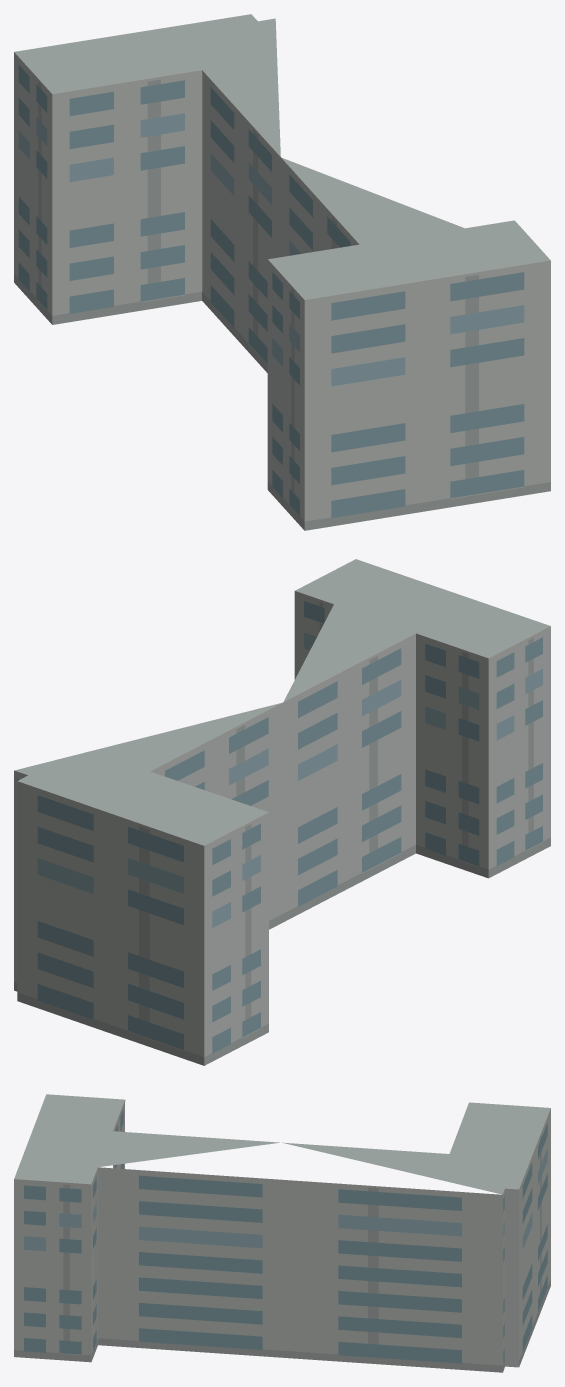
File: residential-97596784-fd13-4249-a55b-8fd7e3b704d4.glb
3 views of the same model, one above another, from view 1: azimuth 30°, elevation 25°; view 2: azimuth 150°, elevation 25°; view 3: azimuth 270°, elevation 25° (orthographic). The views are drawn at different scales.
Visible parts, largest first — view 1: residential-97596784-fd13-4249-a55b-8fd7e3b704d4.tmp; view 2: residential-97596784-fd13-4249-a55b-8fd7e3b704d4.tmp; view 3: residential-97596784-fd13-4249-a55b-8fd7e3b704d4.tmp.
Part boxes in pixels (bbox=[...]): residential-97596784-fd13-4249-a55b-8fd7e3b704d4.tmp: bbox=[14, 14, 550, 530]; residential-97596784-fd13-4249-a55b-8fd7e3b704d4.tmp: bbox=[14, 559, 550, 1065]; residential-97596784-fd13-4249-a55b-8fd7e3b704d4.tmp: bbox=[14, 1094, 550, 1372].
Bounding box in the file's own units: 25.87 × 21.35 × 58.39.
